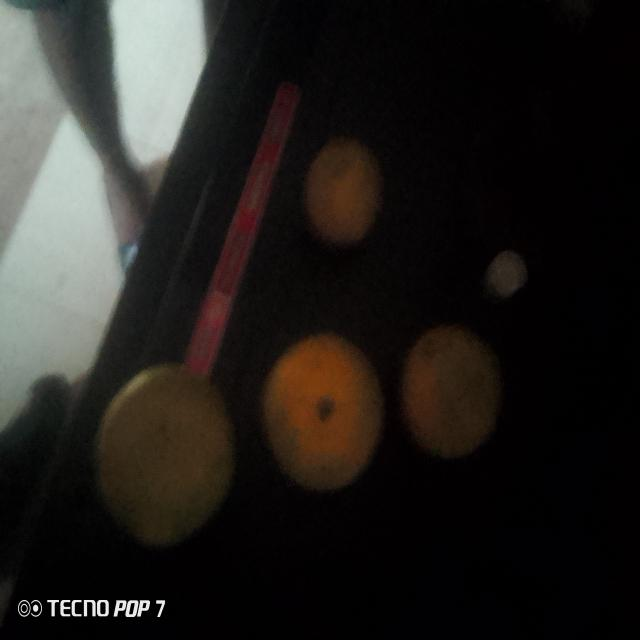Ripe orange: (102, 368, 225, 534), (259, 342, 383, 488), (402, 325, 504, 459), (302, 136, 385, 243)
